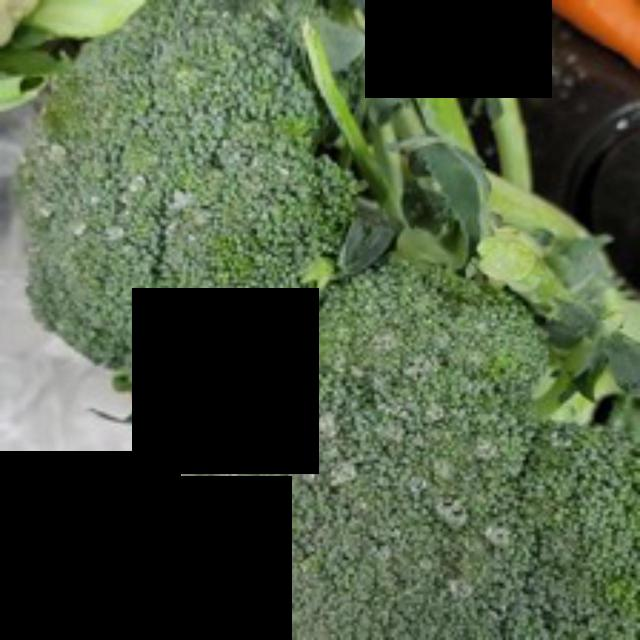broccoli: (137, 246, 637, 636)
